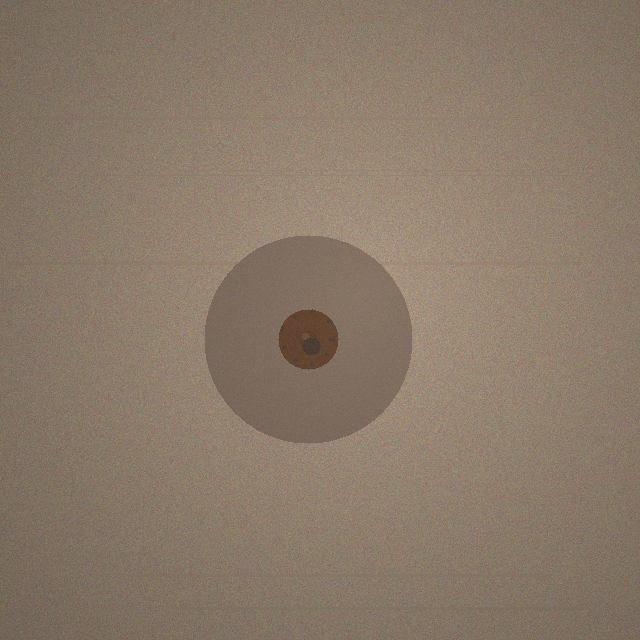cold_weld: (204, 235, 412, 443)
